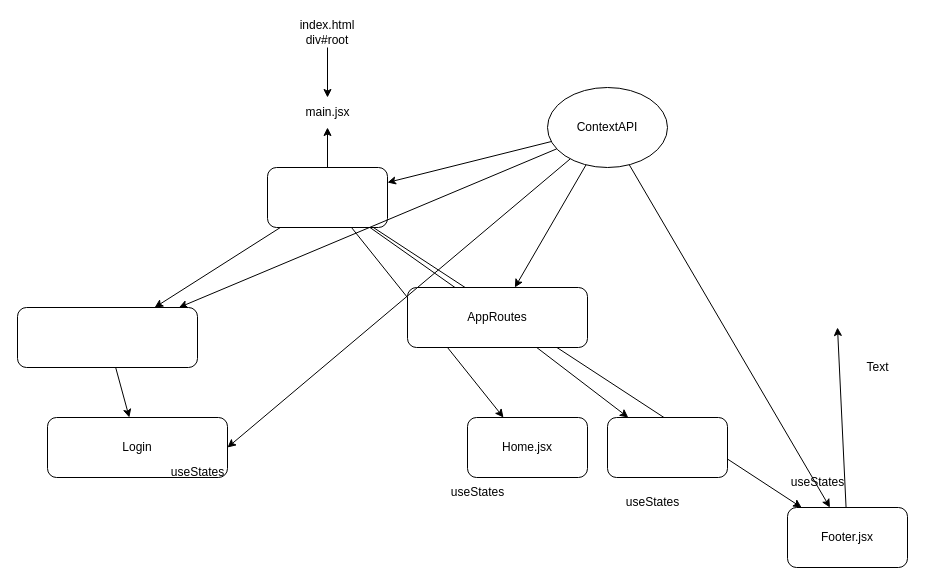
This 925x585 diagram has some shape labels left out. The centre of each missing label's shape, as x and y in pixels:
App.jsx: the point at 327,197
BrowserRouter: the point at 667,447
PublicRoutes: the point at 107,337
